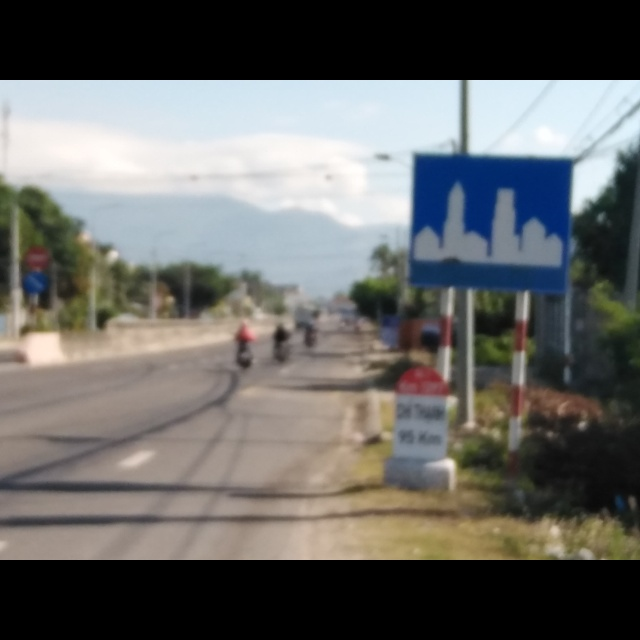Khu đông dân cư: (407, 148, 573, 297)
